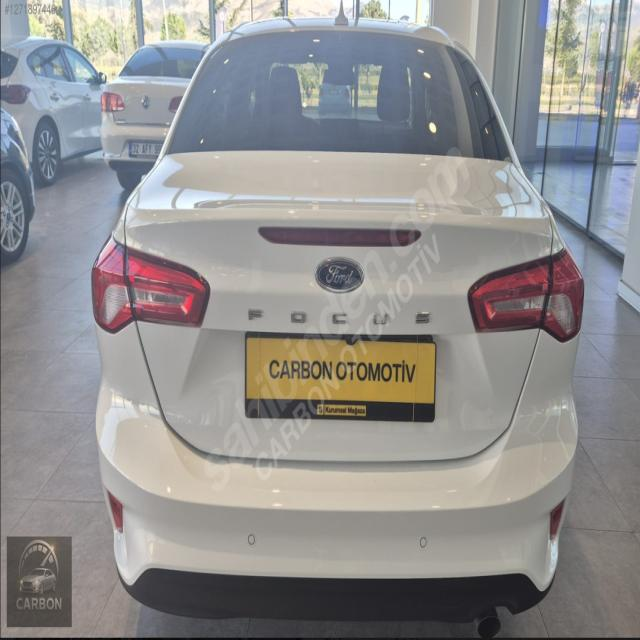ford: (313, 251, 366, 299)
